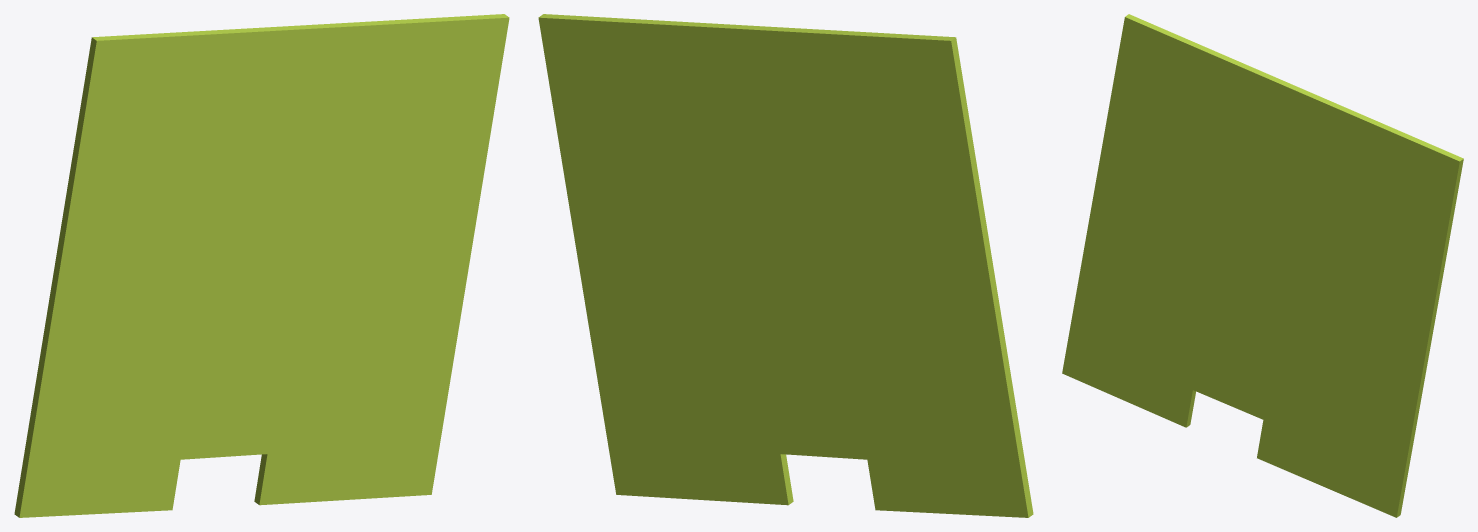
The picture shows the model from 3 angles, left to right: view 1: azimuth 30°, elevation 25°; view 2: azimuth 150°, elevation 25°; view 3: azimuth 330°, elevation 25°; orthographic projection. The views are drawn at different scales.
Parts seen in each view (by area): view 1: osm-way27917482-F-1; view 2: osm-way27917482-F-1; view 3: osm-way27917482-F-1.
Boxes of the visible parts, x1,y1,x2,y2 form: osm-way27917482-F-1: [14, 14, 509, 517]; osm-way27917482-F-1: [538, 14, 1033, 517]; osm-way27917482-F-1: [1062, 14, 1463, 517].
Size of the model in its own units: 8.46 by 8.84 by 0.15.
